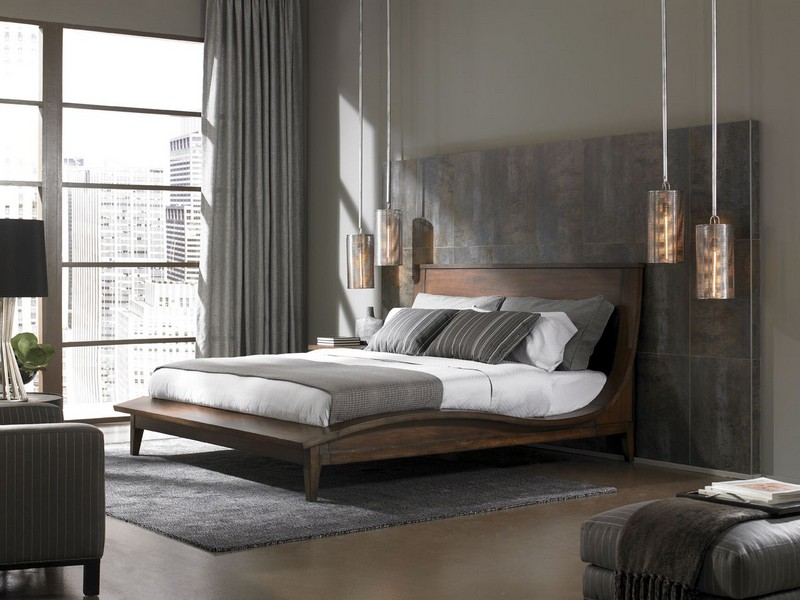bed: (112, 257, 654, 497)
chair: (1, 398, 109, 597)
lamp: (5, 210, 57, 401)
